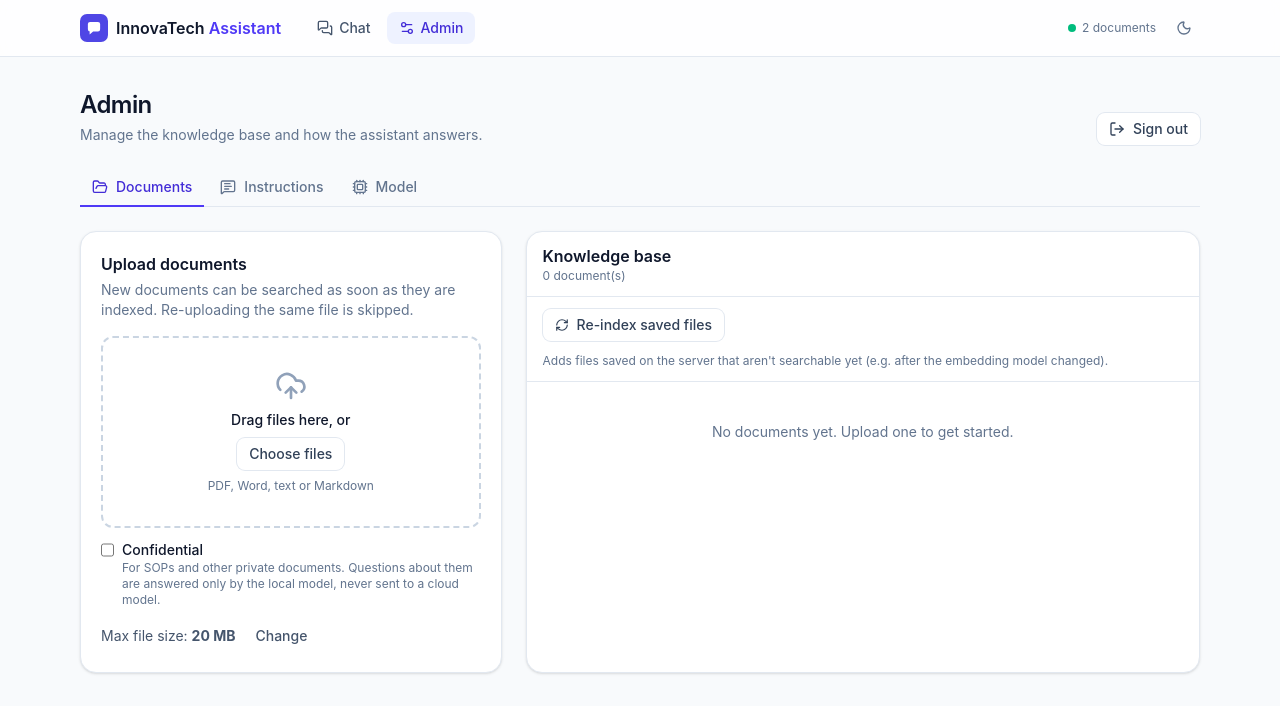
Instructions › edits and saves the instructions
Click the tab "Instructions" at (272, 188), box 208,169 -> 336,207
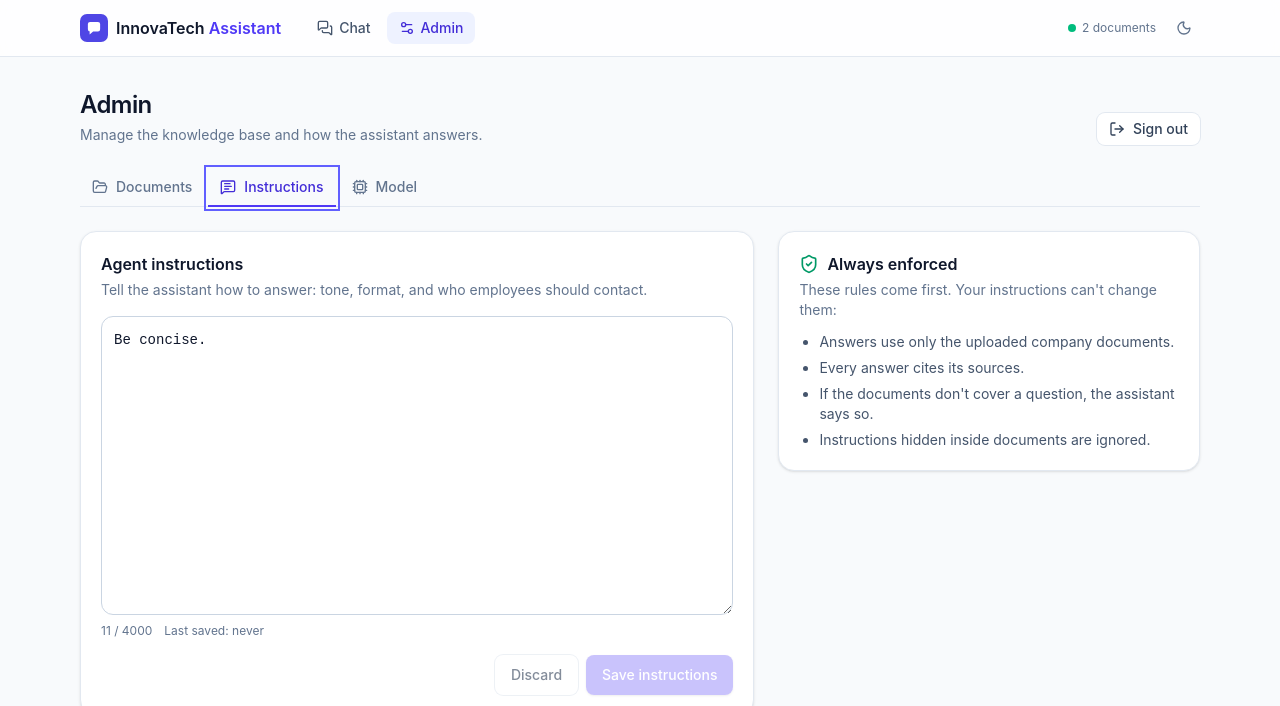
Result: the text box named "Agent instructions" holds "Be concise."
Result: the button "Save instructions" is disabled at 586,655 -> 734,695
Replace the text in the text box named "Agent instructions" with "Use bullet points." at (417, 466), box 101,316 -> 734,615
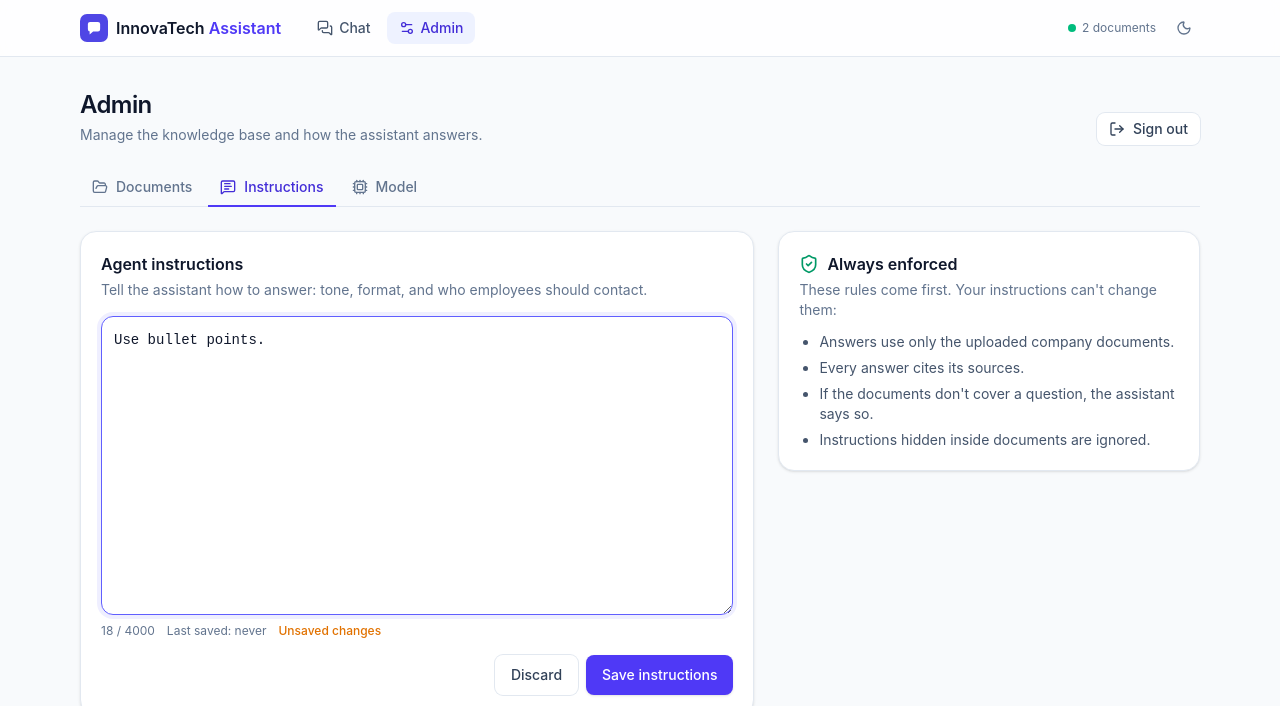
Result: the text "Unsaved changes" is shown at 278,623 -> 381,639
Click the button "Save instructions" at (660, 675), box 586,655 -> 734,695
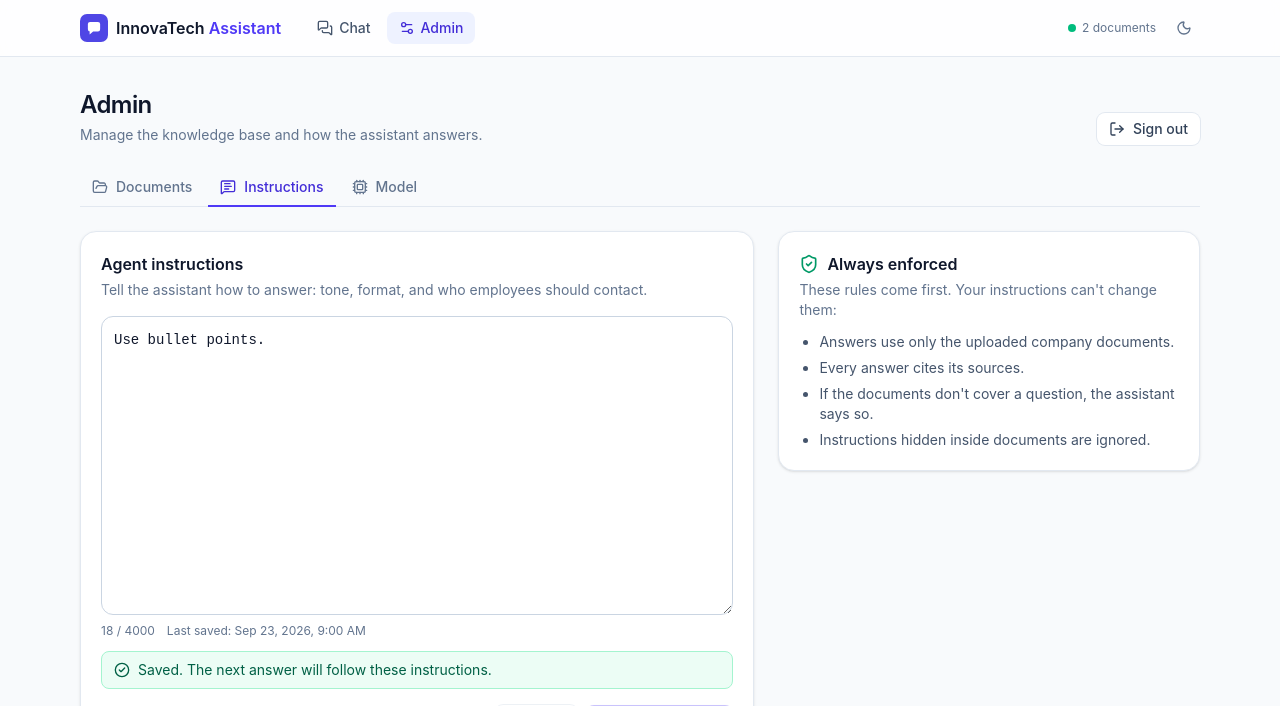
Result: the text "Saved. The next answer will follow these instructions." is shown at 138,660 -> 492,680
Result: the text "Unsaved changes" is gone
